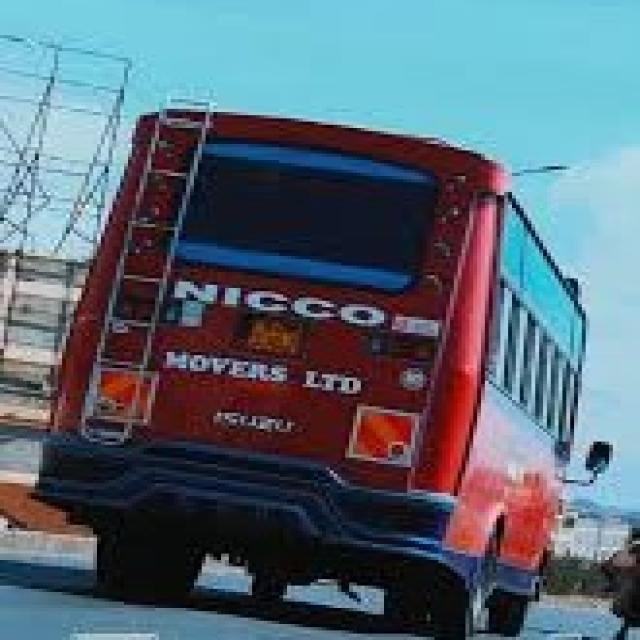bus: (27, 29, 640, 640)
